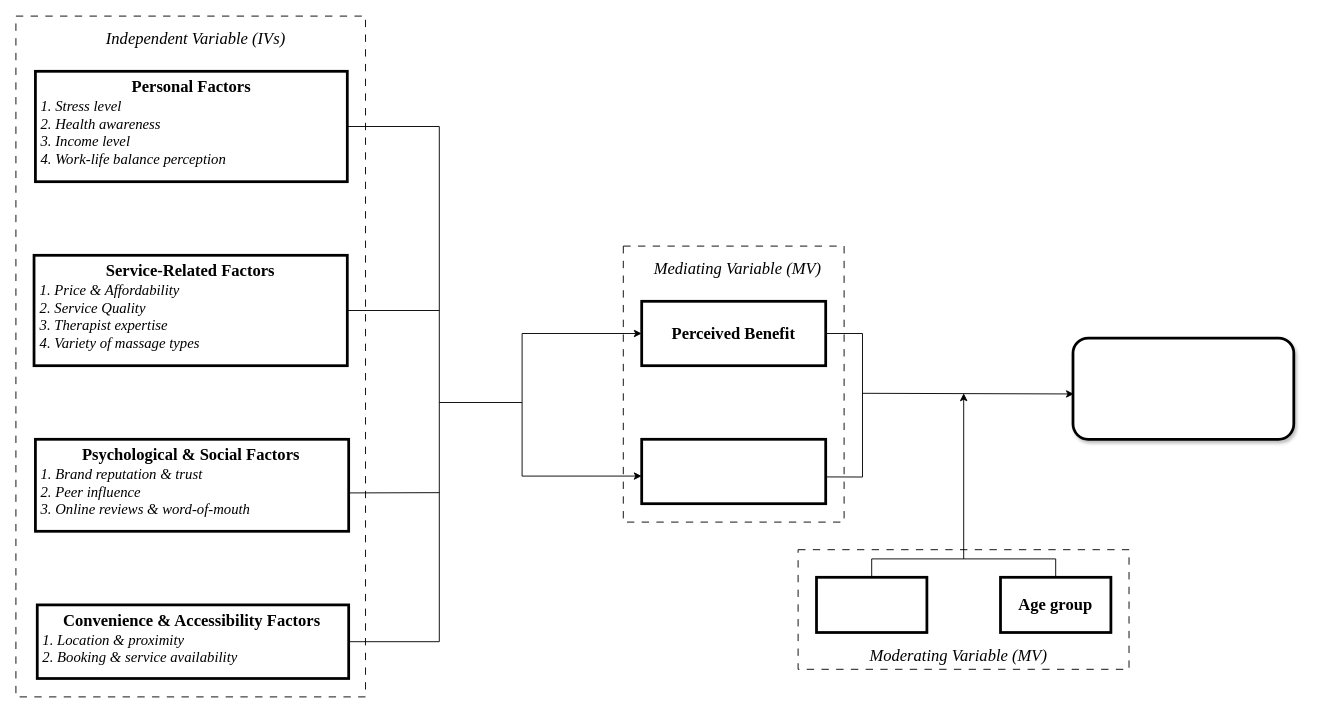
This 1317x713 diagram has some shape labels left out. The shapes that lost their labels are listed below. From the top down, each one's centre as x and y in pixels, then its label:
(x=1183, y=390): Dependent Variable (DV) Decision to Choose Massage Therapy Services
(x=733, y=471): Customer Satisfaction
(x=871, y=604): Gender
